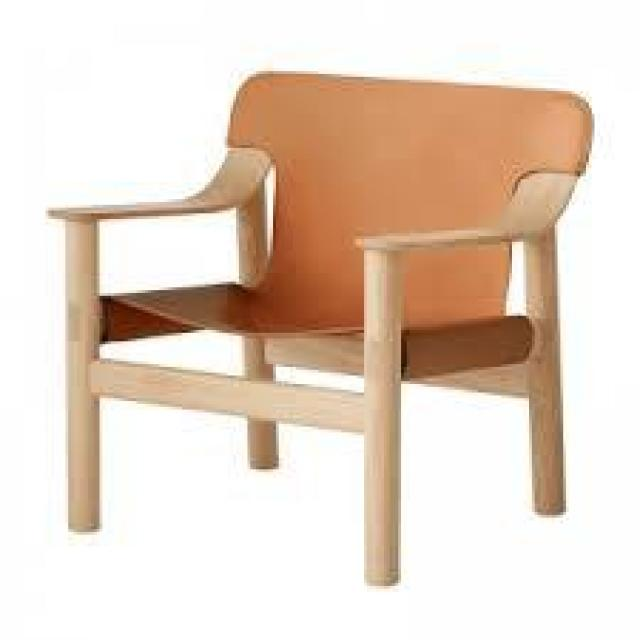chair: (35, 29, 579, 612)
